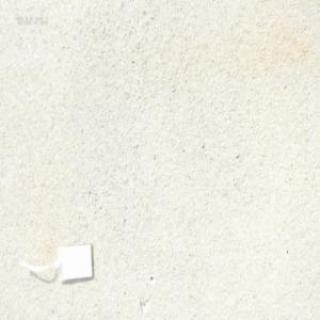LuggageTagtrack_idkeyframe: (16, 240, 95, 285)
